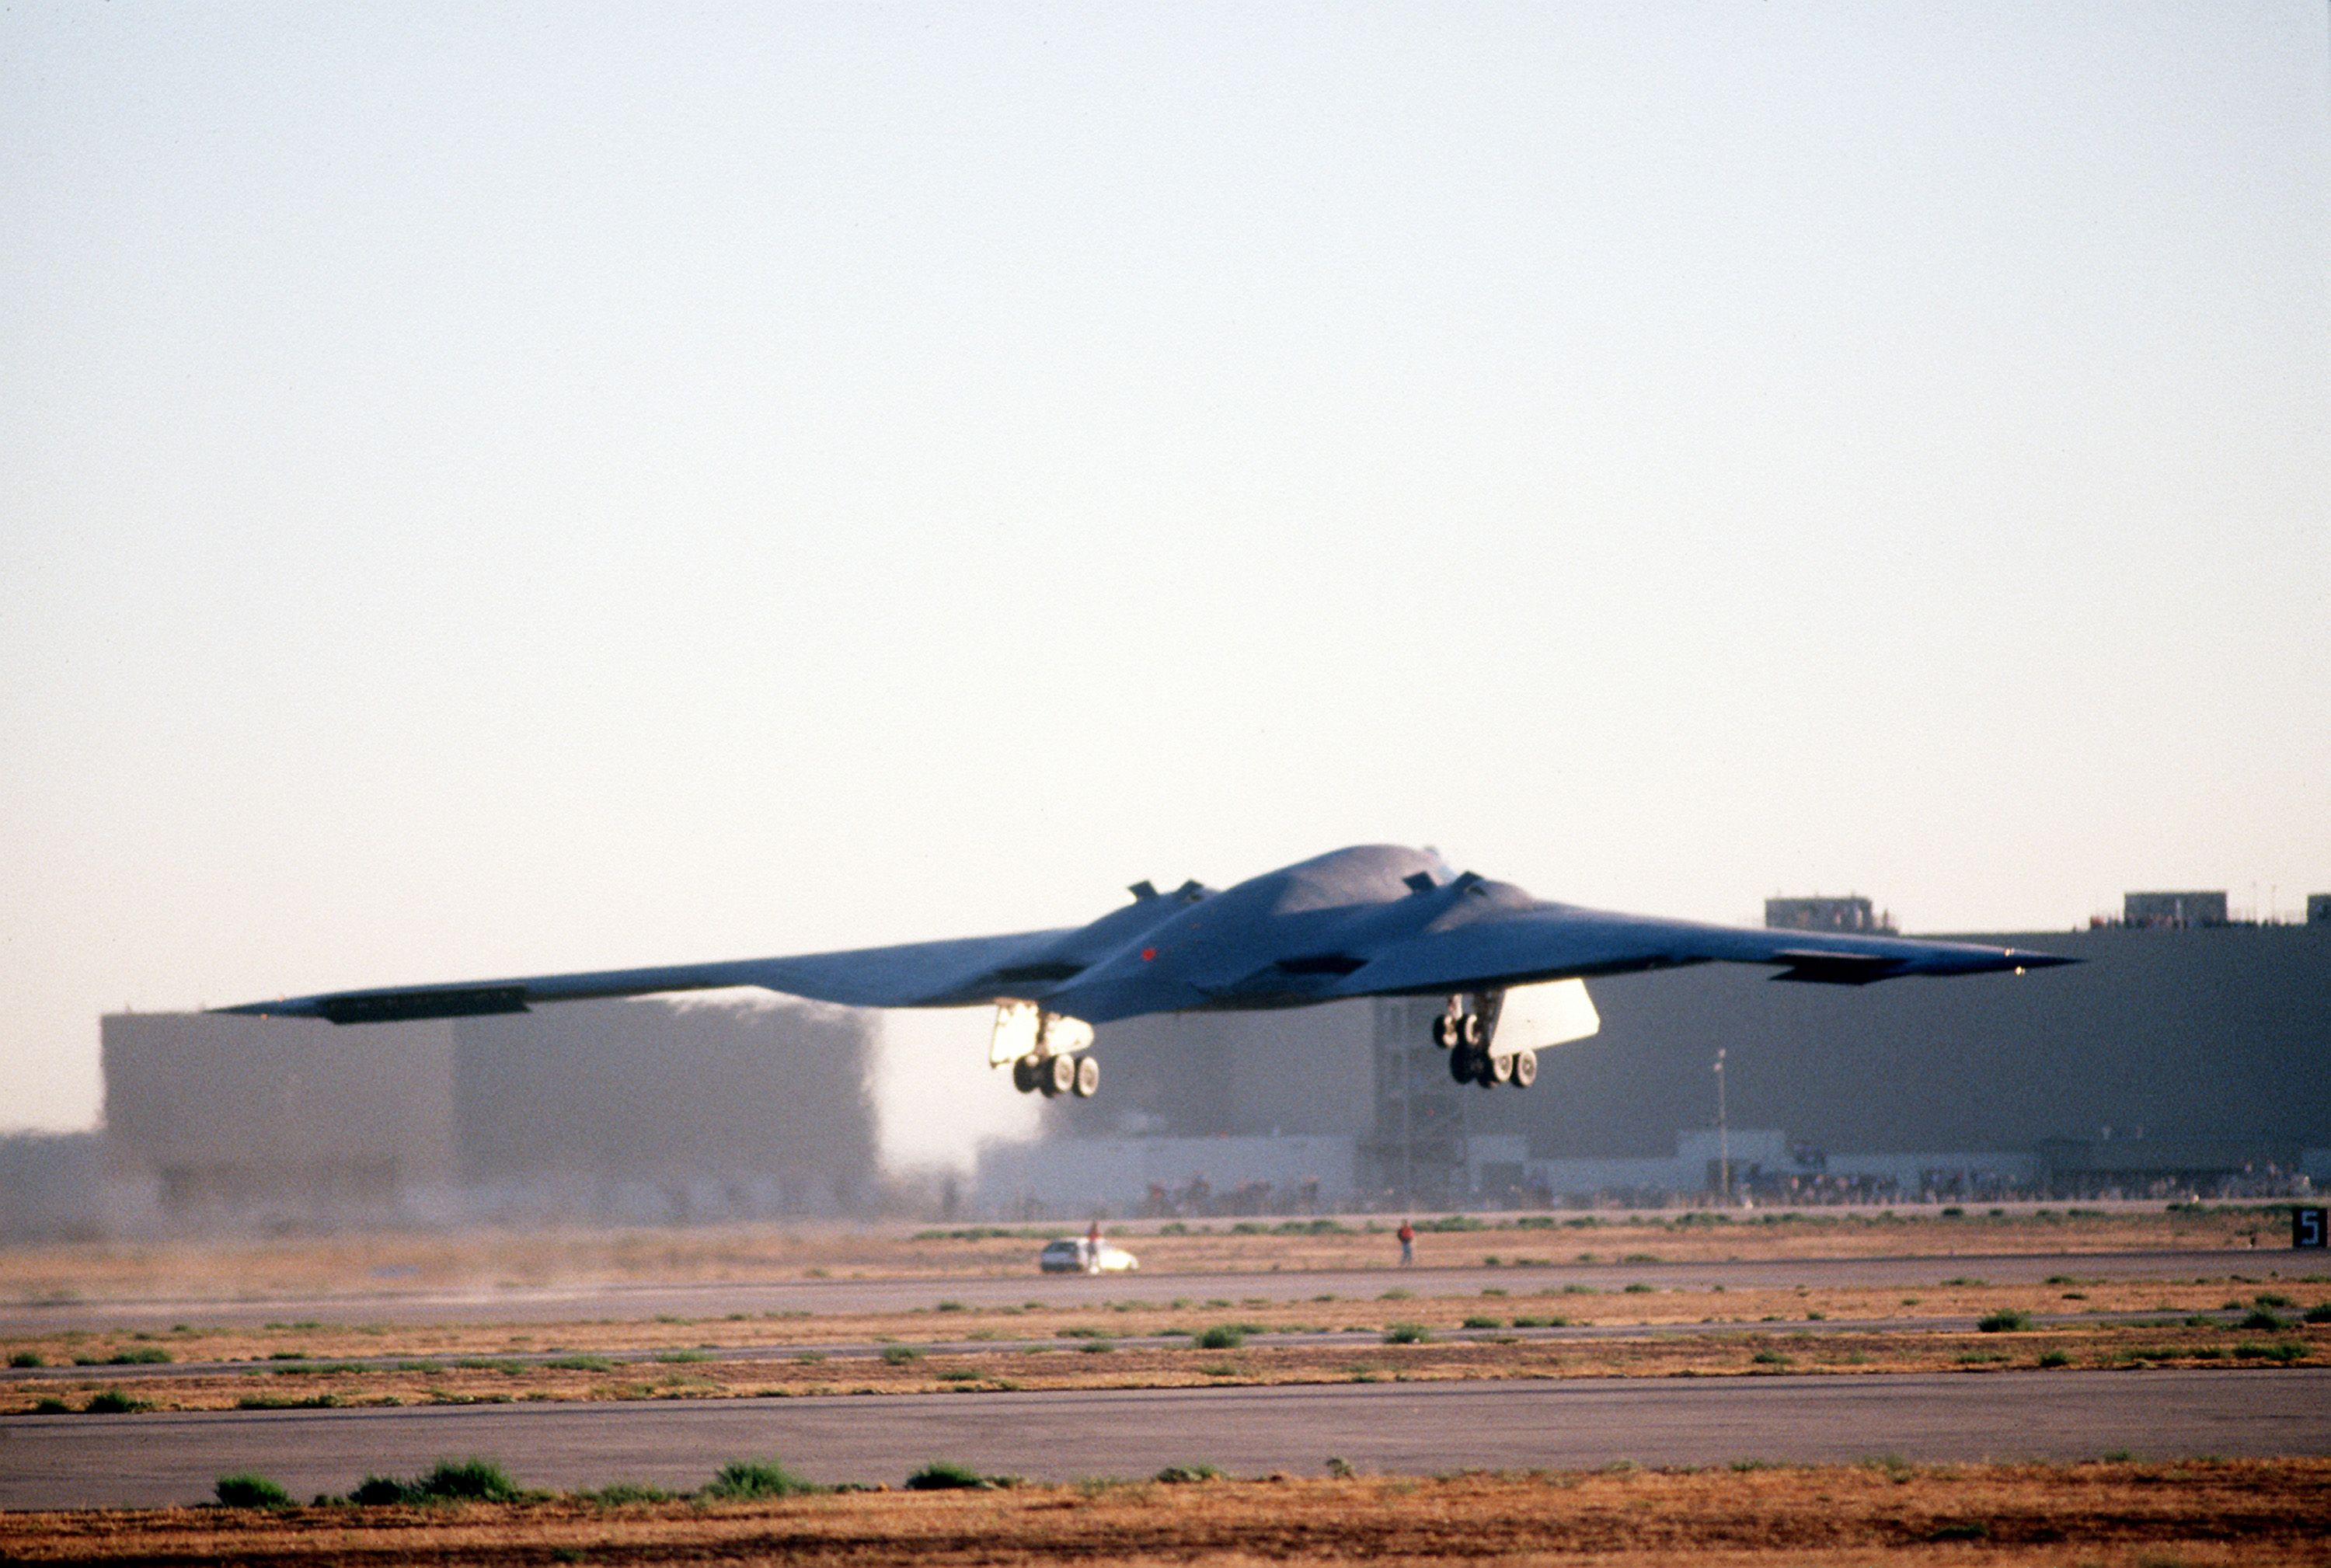B2: (201, 842, 2091, 1101)
